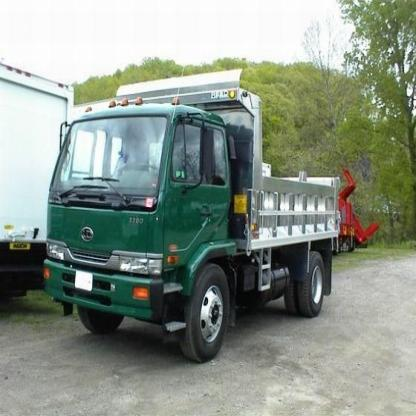dump_truck: (41, 55, 344, 361)
